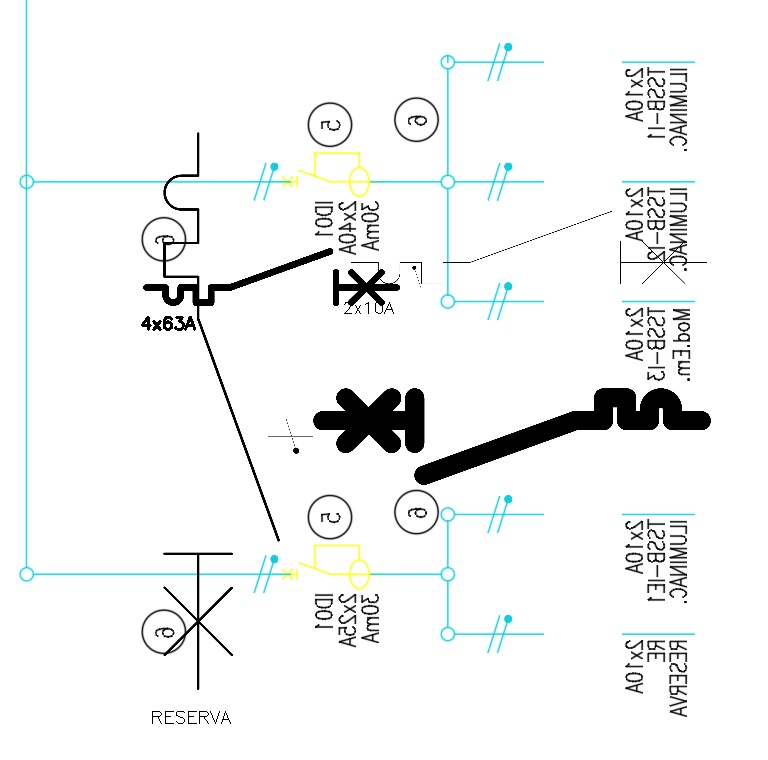interruptor_termomagnetico: (150, 119, 293, 703), (313, 388, 711, 485), (342, 202, 716, 293), (140, 245, 403, 309)
